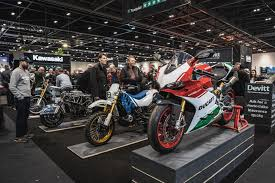motorcycle: (147, 49, 250, 154), (85, 79, 167, 147), (39, 85, 100, 131), (23, 80, 59, 111)
